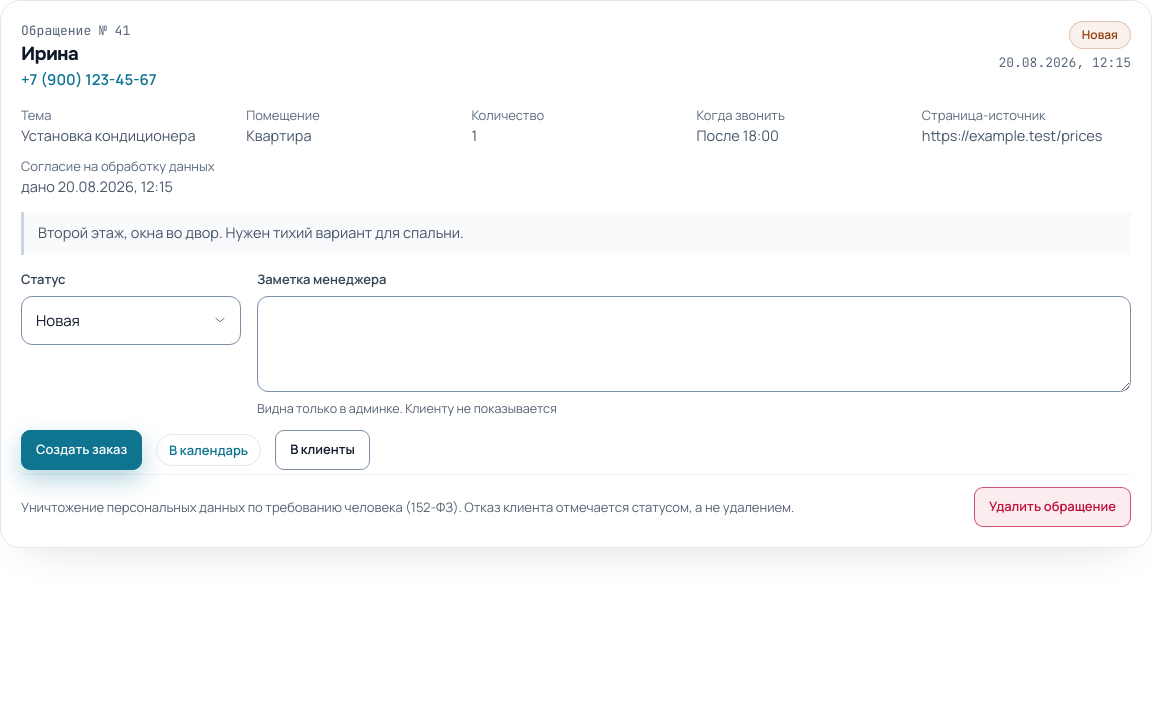
Test: Карточка заявки › «В клиенты» заводит карточку человека и сообщает об этом
Click the button "В клиенты" at {"x": 322, "y": 450}, box [275,430,370,470]
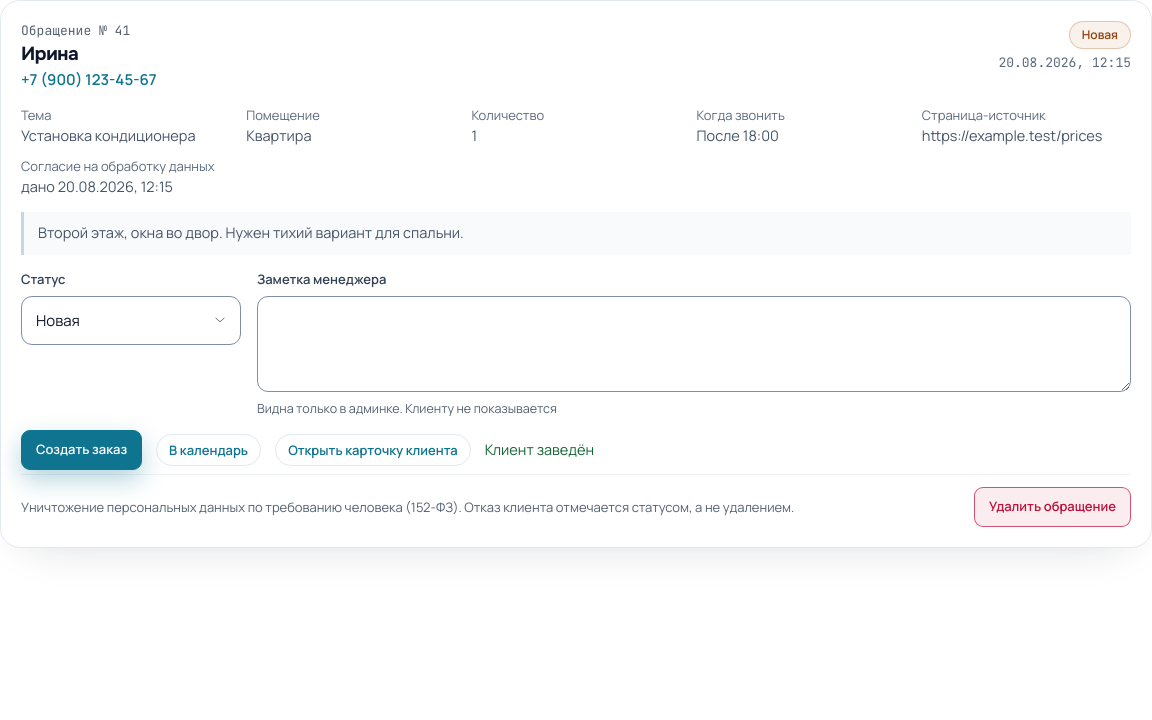
Check: the text "Клиент заведён" is shown, box [485,439,594,462]
